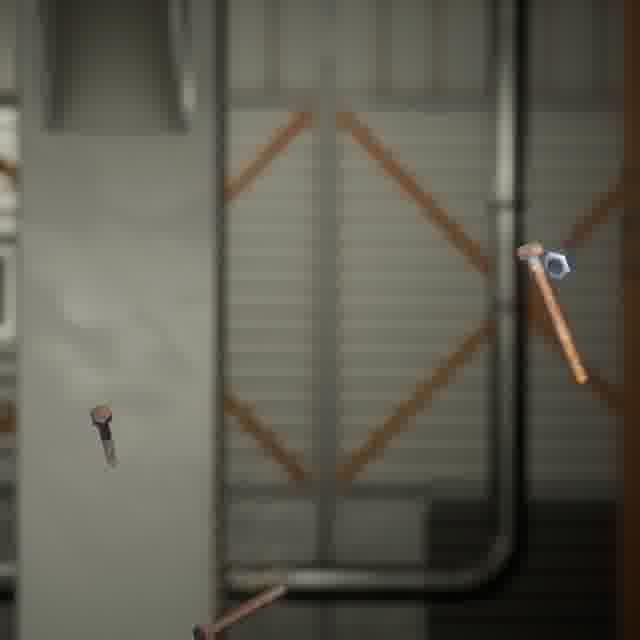bolt: (511, 236, 592, 388), (188, 579, 290, 640), (85, 400, 121, 472)
nut: (538, 243, 578, 285)
